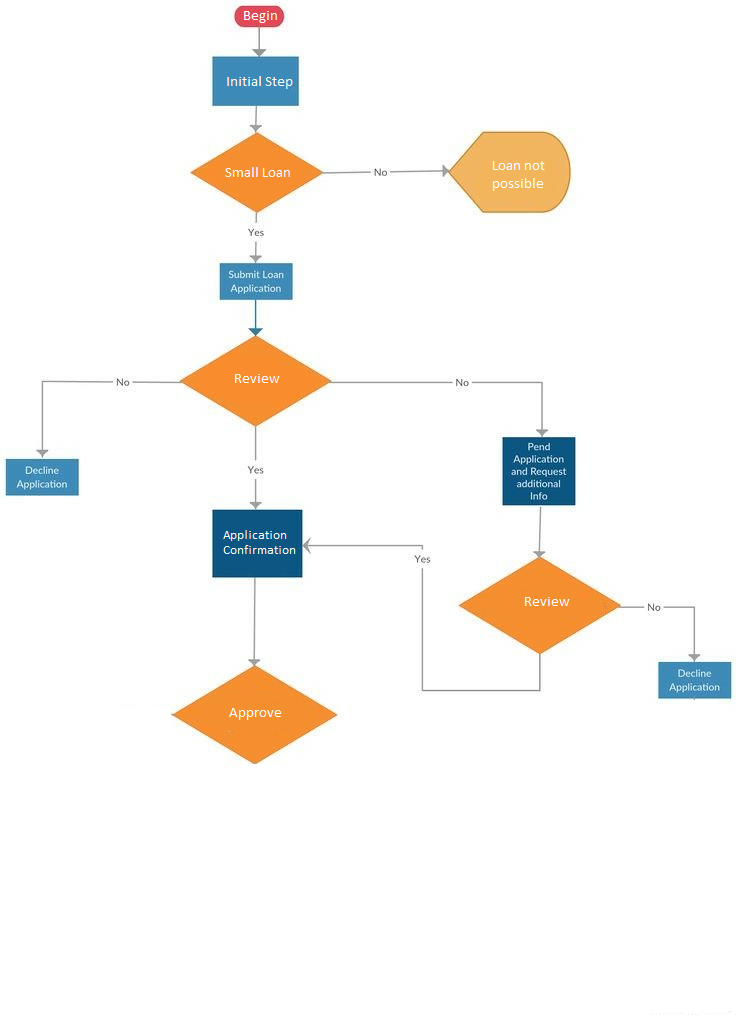arrow: (304, 534, 547, 699), (35, 375, 176, 463), (335, 379, 551, 435), (624, 602, 707, 659), (321, 165, 451, 179), (248, 423, 264, 509), (247, 580, 261, 668), (530, 511, 550, 559), (248, 211, 265, 260), (247, 300, 267, 337), (247, 106, 267, 132), (248, 28, 268, 52)
decision: (171, 665, 338, 765), (459, 554, 622, 654), (179, 339, 331, 426), (188, 131, 324, 214)
process: (447, 129, 573, 215), (208, 508, 305, 579), (499, 434, 579, 509), (208, 54, 301, 109), (215, 259, 296, 300), (658, 659, 735, 700), (2, 459, 82, 497)
terminator: (231, 1, 287, 31)
text: (510, 437, 573, 503), (219, 526, 302, 560), (487, 155, 555, 194), (225, 263, 293, 295), (667, 666, 725, 697), (16, 465, 73, 494), (225, 72, 298, 94), (225, 162, 296, 183), (227, 702, 290, 723), (228, 369, 288, 391), (236, 5, 287, 26), (519, 591, 576, 609), (245, 462, 268, 479), (410, 552, 436, 566), (111, 375, 139, 388), (244, 225, 270, 239), (367, 165, 391, 179), (450, 377, 476, 389), (642, 602, 665, 612)
